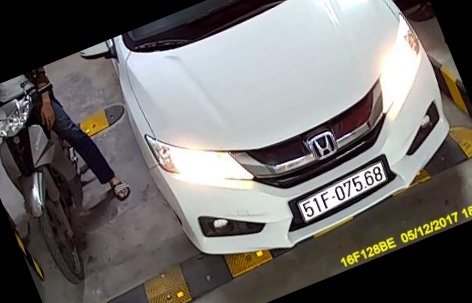plate: (277, 162, 402, 224)
